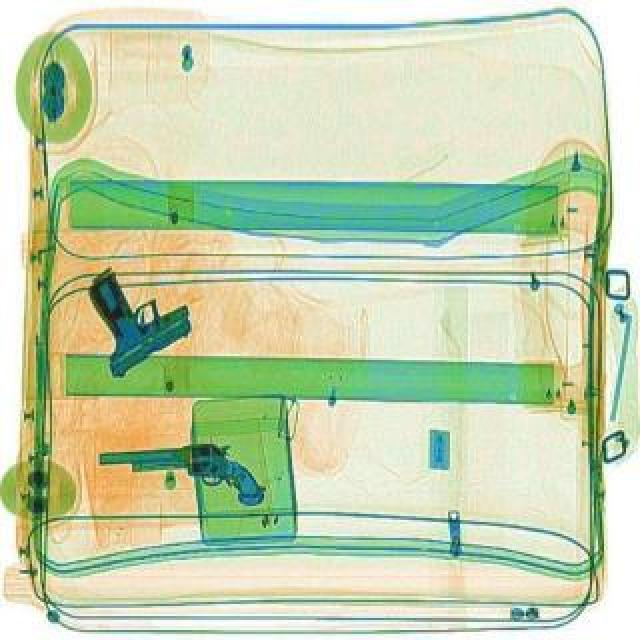gun: (58, 248, 202, 378), (98, 434, 266, 514)
